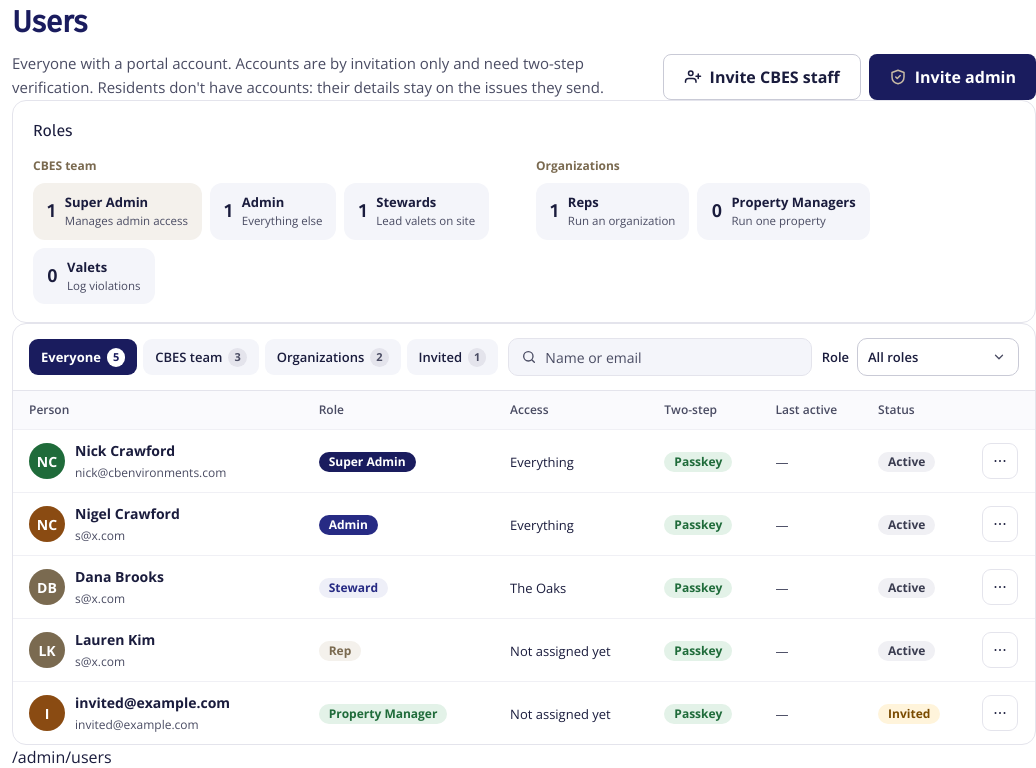
Scenario: Users roles › shows one role per user and replaces the additive actions with Change Role
The image size is (1036, 768).
expect the text "Dana Brooks" is shown: met, box [75,566,164,587]
Click the button named "Actions for Nigel Crawford" at {"x": 1000, "y": 524}, box [982,506,1018,542]
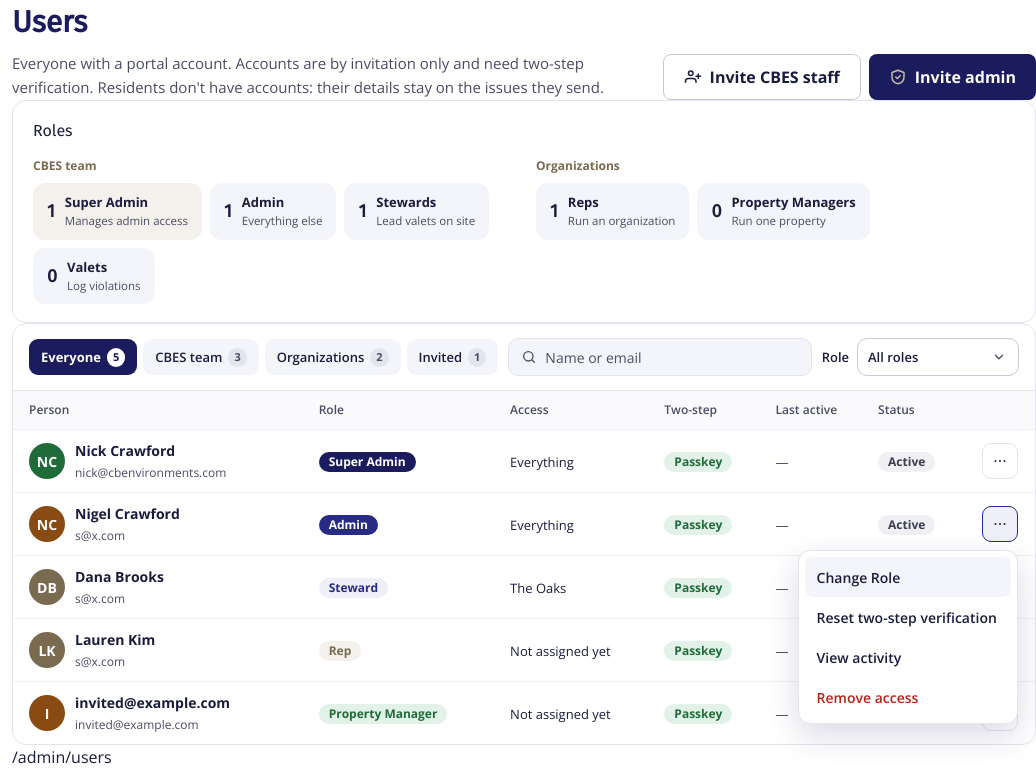
expect the menu item "Change Role" is shown: met, box [805,557,1011,597]
